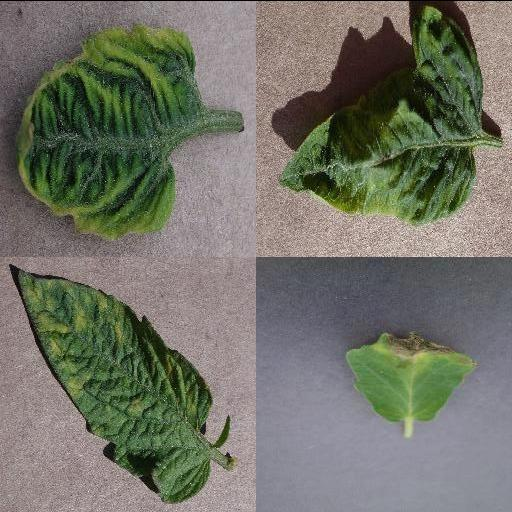Late Blight: (346, 329, 478, 419)
Leaf Mold: (16, 268, 214, 503)
Yellow Leaf Curl Virus: (277, 3, 483, 227), (14, 24, 204, 237)
